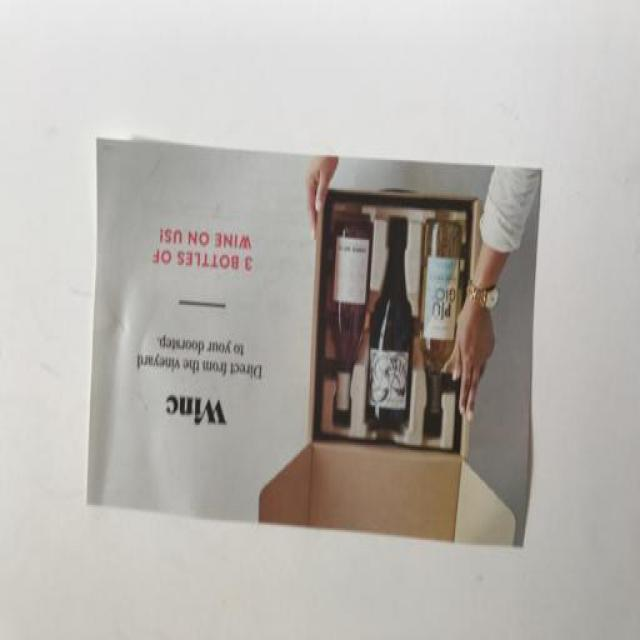paper: (86, 130, 535, 545)
